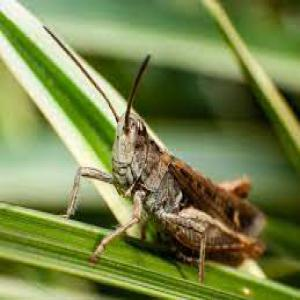locust: (98, 83, 269, 282)
